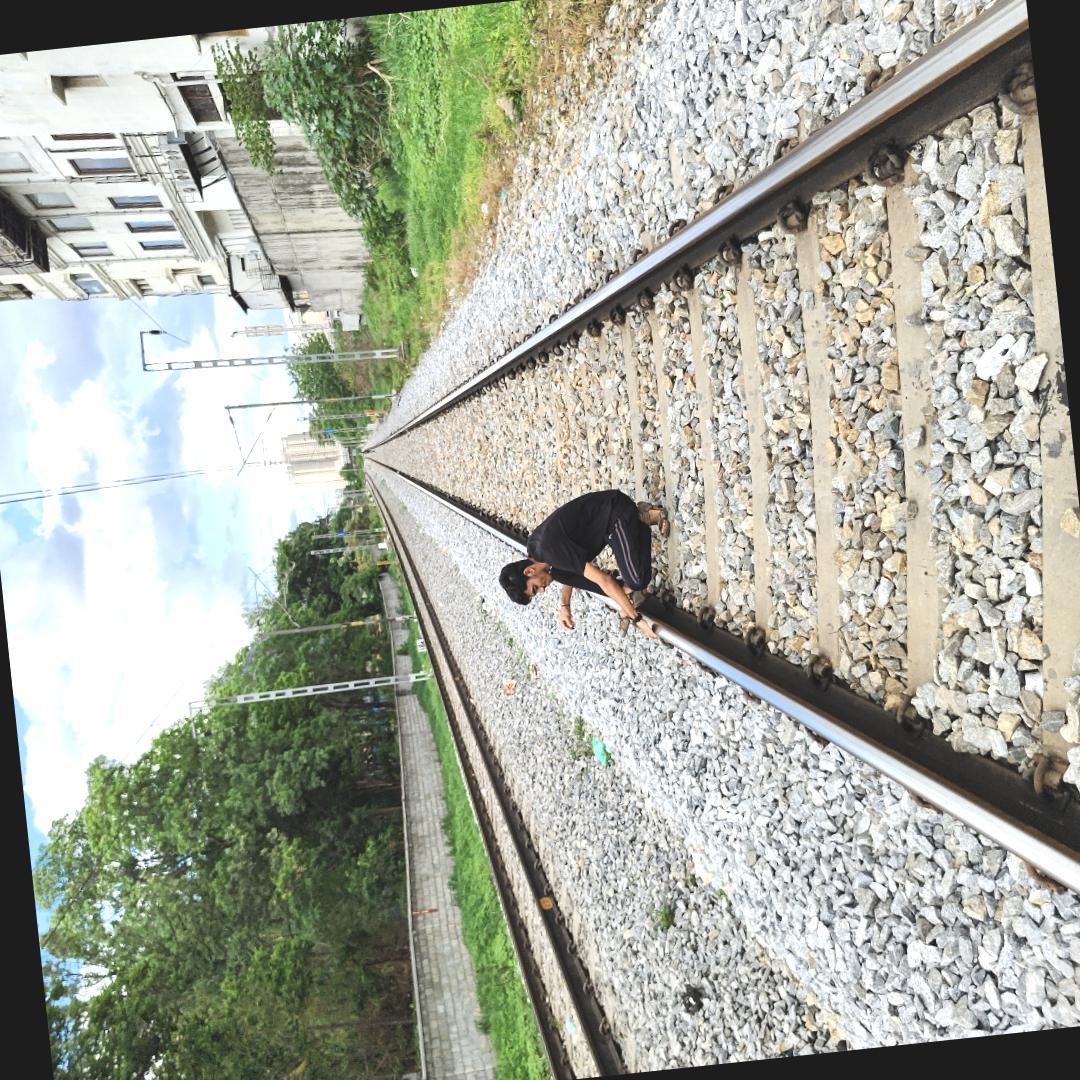sitting: (462, 469, 674, 652)
